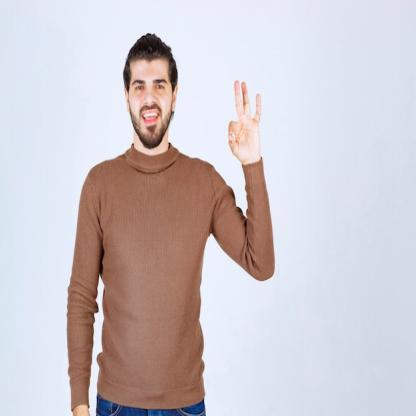ok: (220, 75, 268, 165)
